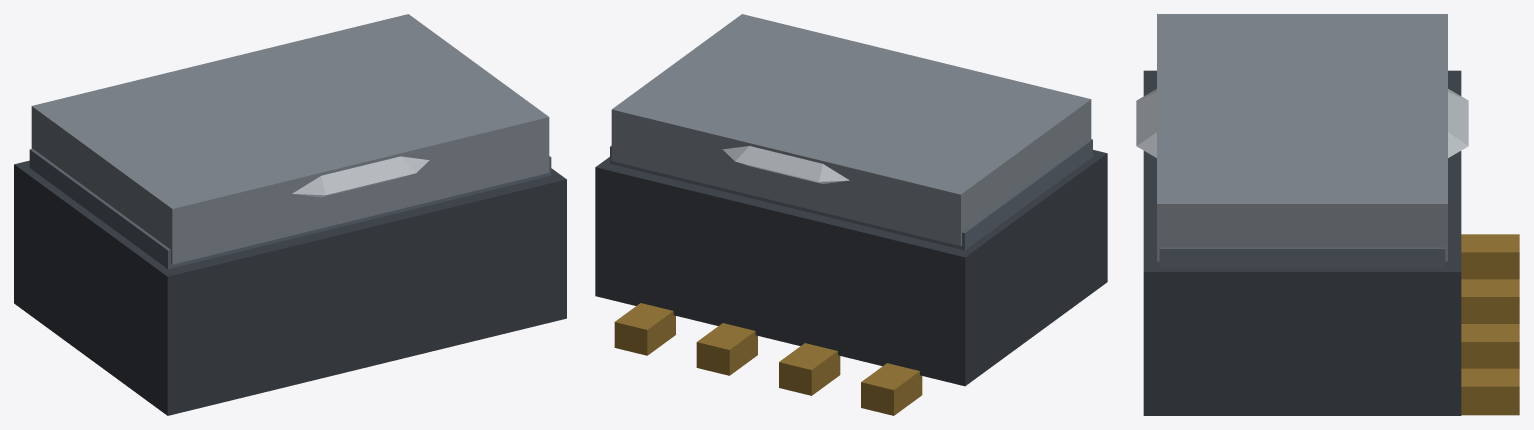
Rendered from droid-dura-plating-mk-1.glb.
3 renders of one model, left to right at view 1: azimuth 30°, elevation 25°; view 2: azimuth 150°, elevation 25°; view 3: azimuth 270°, elevation 25°, orthographic. The views are drawn at different scales.
Parts seen in each view (by area): view 1: m; view 2: m; view 3: m.
Boxes of the visible parts, <box> form: m: <box>14,14,566,415</box>; m: <box>595,14,1107,415</box>; m: <box>1136,14,1519,415</box>.
Bounding box in the file's own units: 0.1 × 0.0533 × 0.0804.
